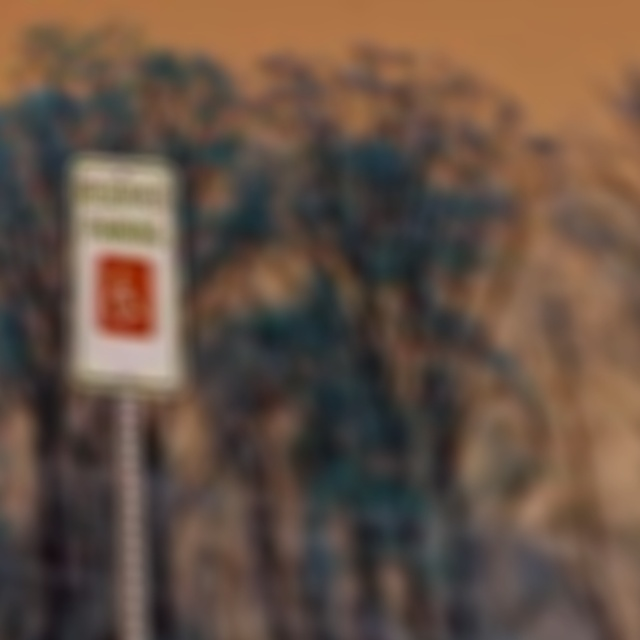ISA: (99, 260, 149, 334)
